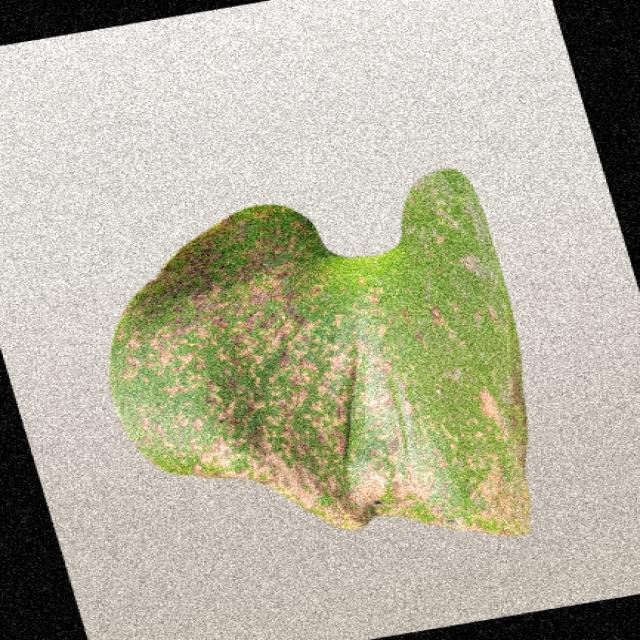daun berpenyakit bercak: (110, 170, 528, 534)
